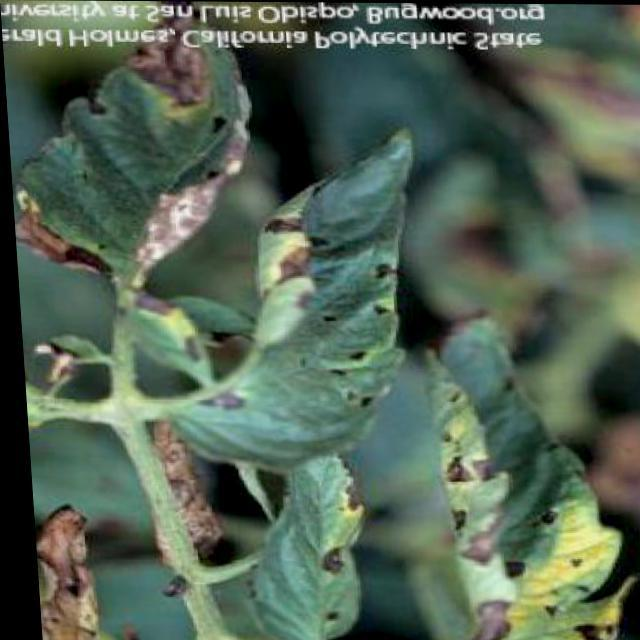Tomato Early blight leaf: (150, 123, 444, 476), (1, 2, 276, 306), (386, 302, 627, 639)
